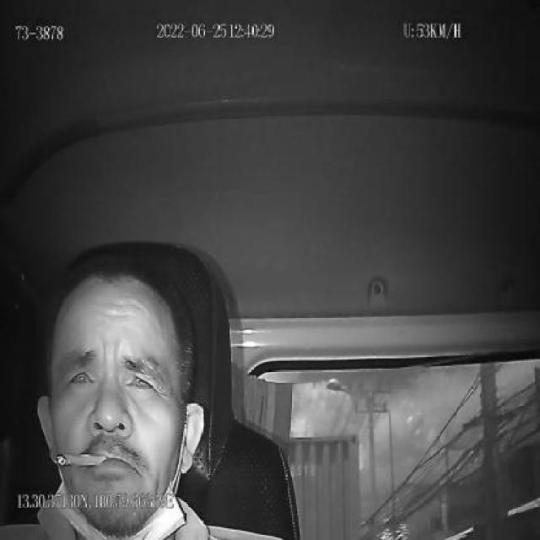smoking: (53, 451, 108, 468)
